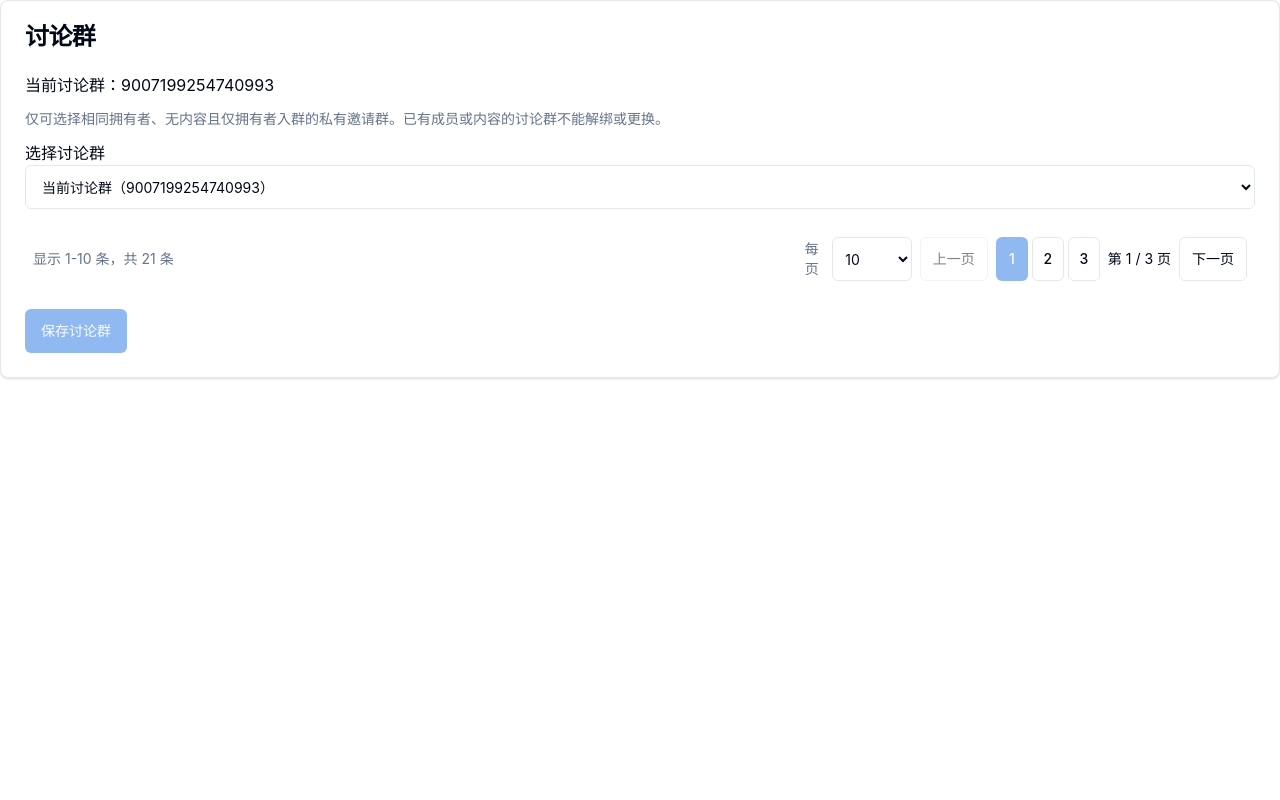
explicit empty selection unbinds instead of falling back to the current binding
Step 1. Select "解除绑定" in the dropdown labelled "选择讨论群" → (640, 187), box [25,165,1255,209]
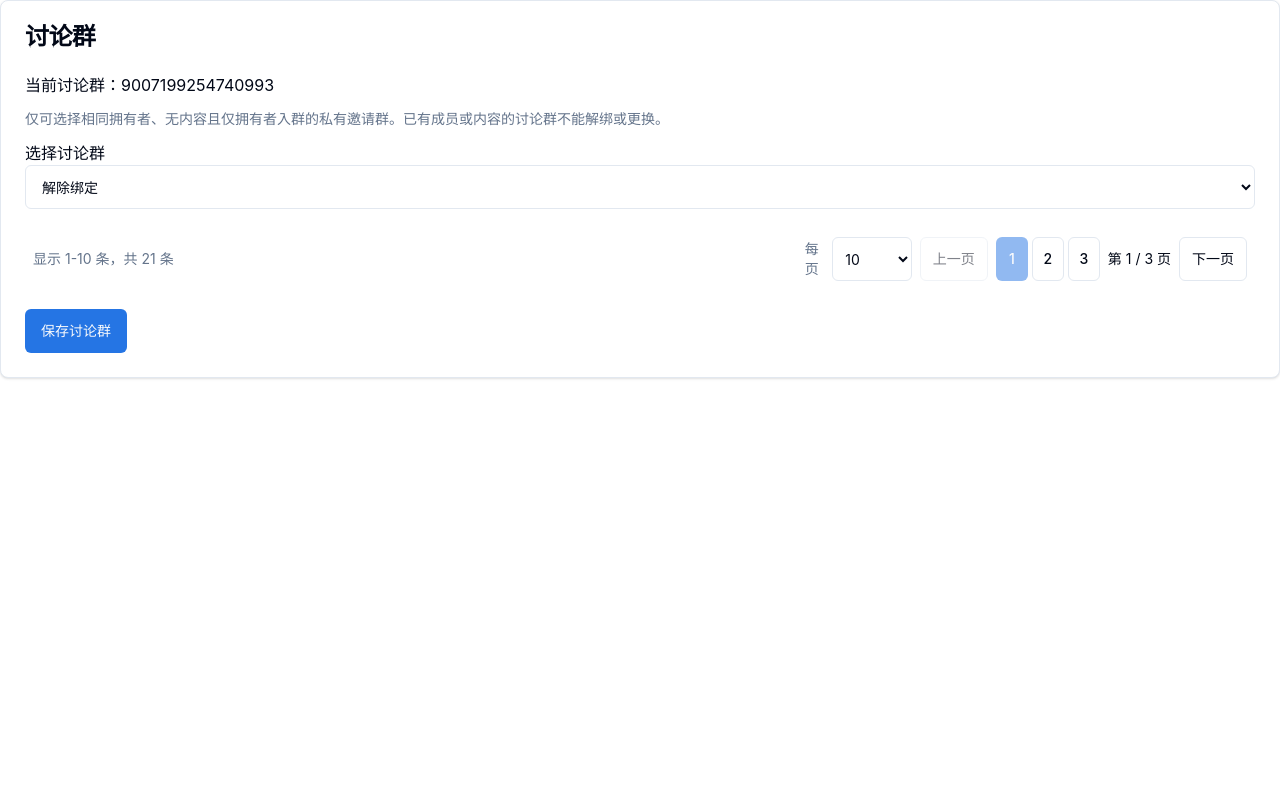
Step 2. Click the button "保存讨论群" → (76, 331), box [25,309,127,353]
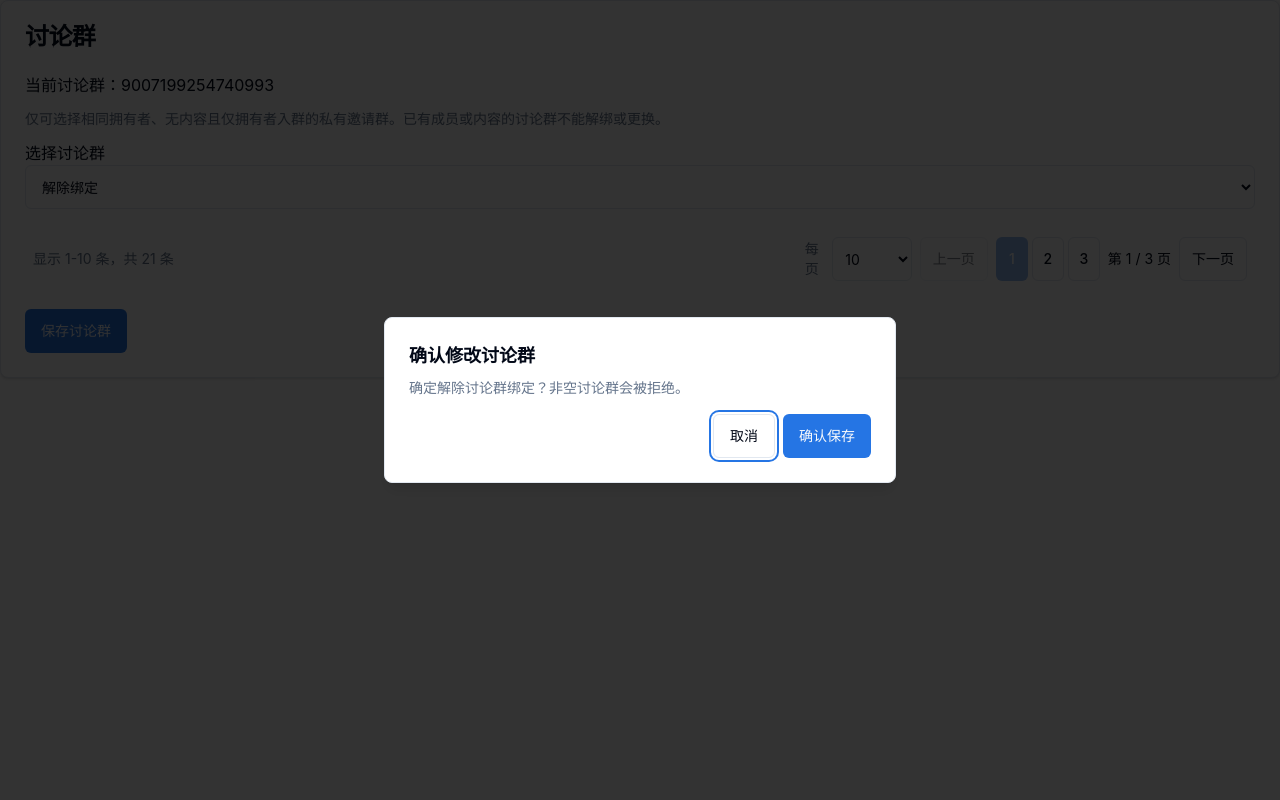
Step 3. Click the button "确认保存" → (827, 436), box [783,414,871,458]
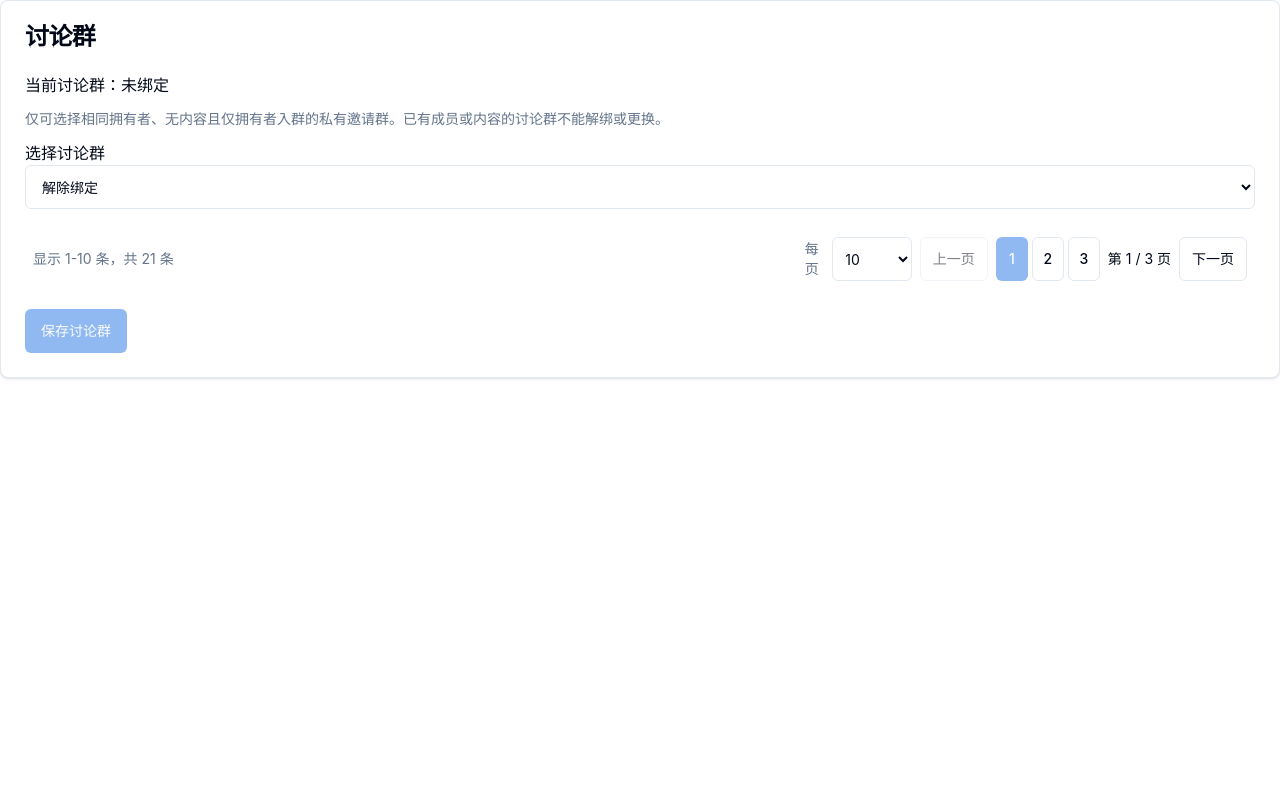
Check: the text "当前讨论群：未绑定" is shown, box [25,75,169,95]
Check: the button "保存讨论群" is disabled, box [25,309,127,353]
